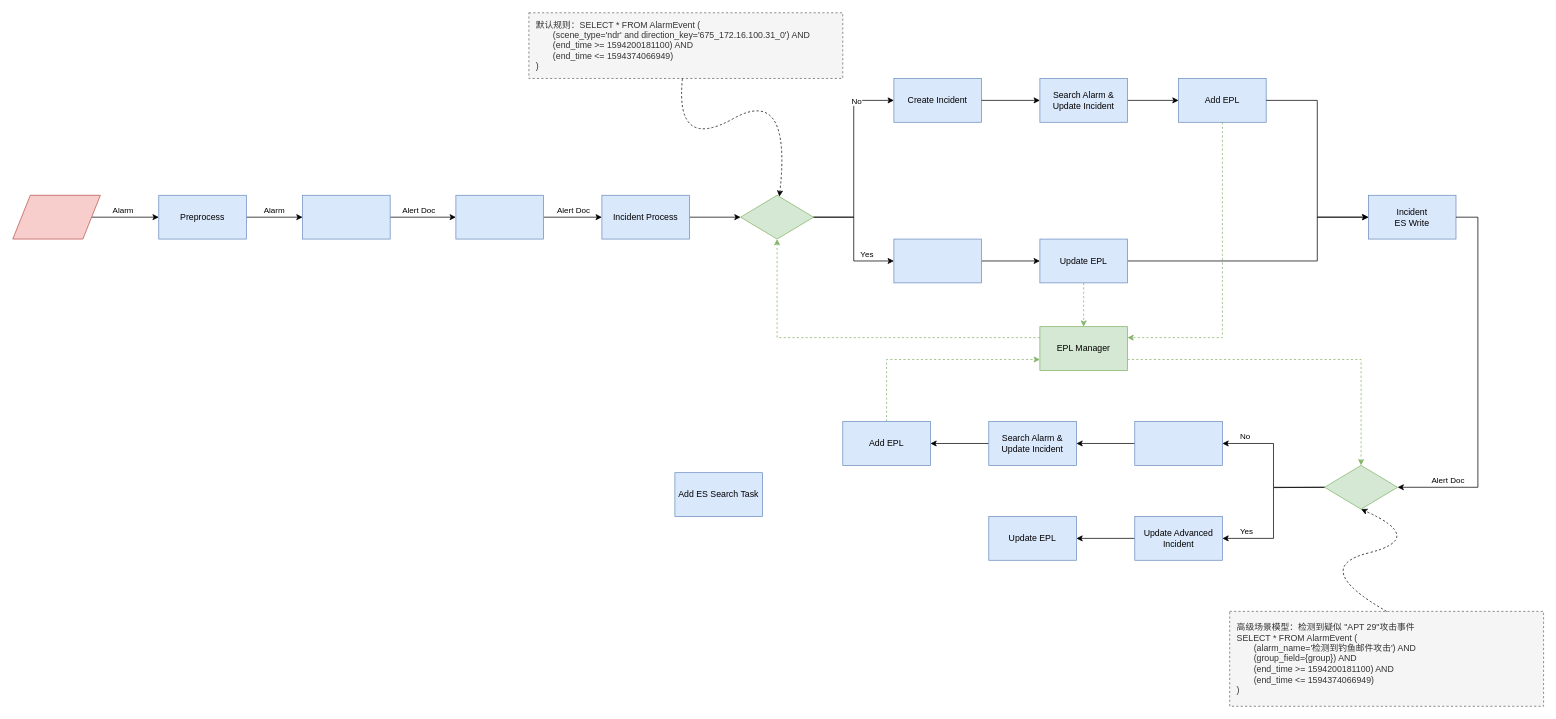
The diagram is 1556 pixels wide and 719 high, and some of its shapes have lost their labels. Each missing label, with the centre of its shape:
Advanced EPL Matched: the point at 1361,487
Alarm Kafka input: the point at 56,217
Create Advanced Incident: the point at 1178,443
Enrichment & Transform: the point at 346,217
EPL Matched: the point at 777,217
ES Write: the point at 499,217
Update Incident: the point at 937,260
